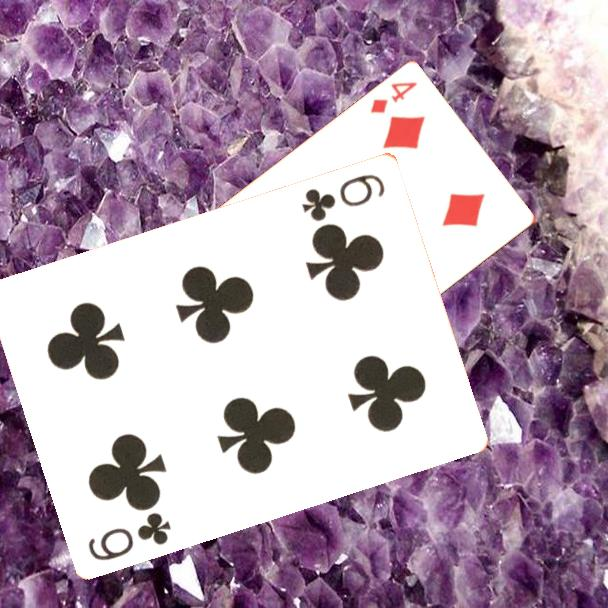c06: (84, 508, 174, 563), (298, 170, 388, 224)
d04: (367, 79, 420, 117)
